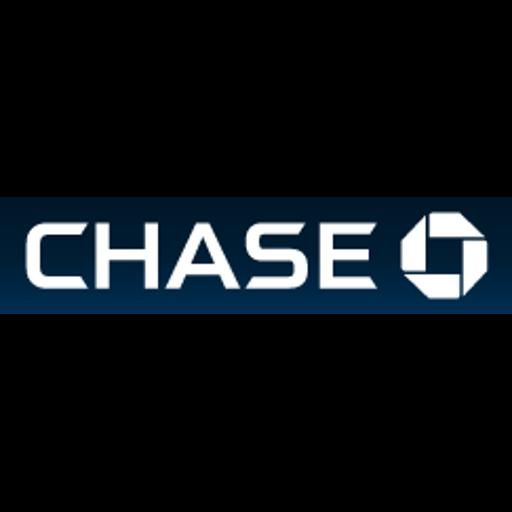Chase Personal Banking: (0, 197, 512, 314)
